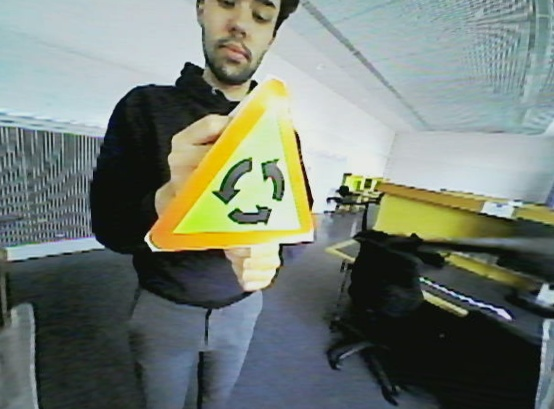roundabout_warning: (145, 72, 323, 253)
